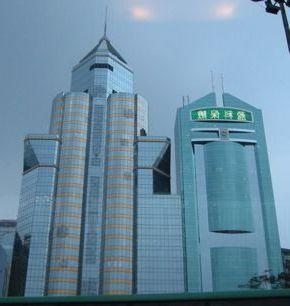building: (0, 5, 186, 293), (177, 71, 286, 290)
